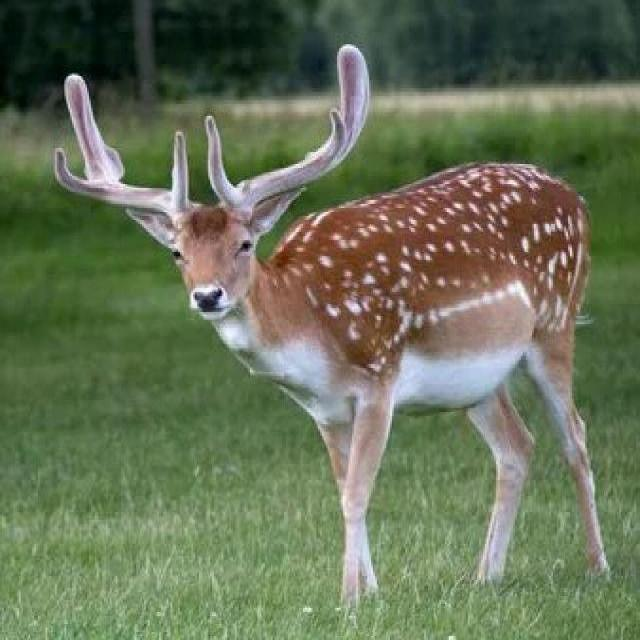deer: (142, 112, 632, 588)
